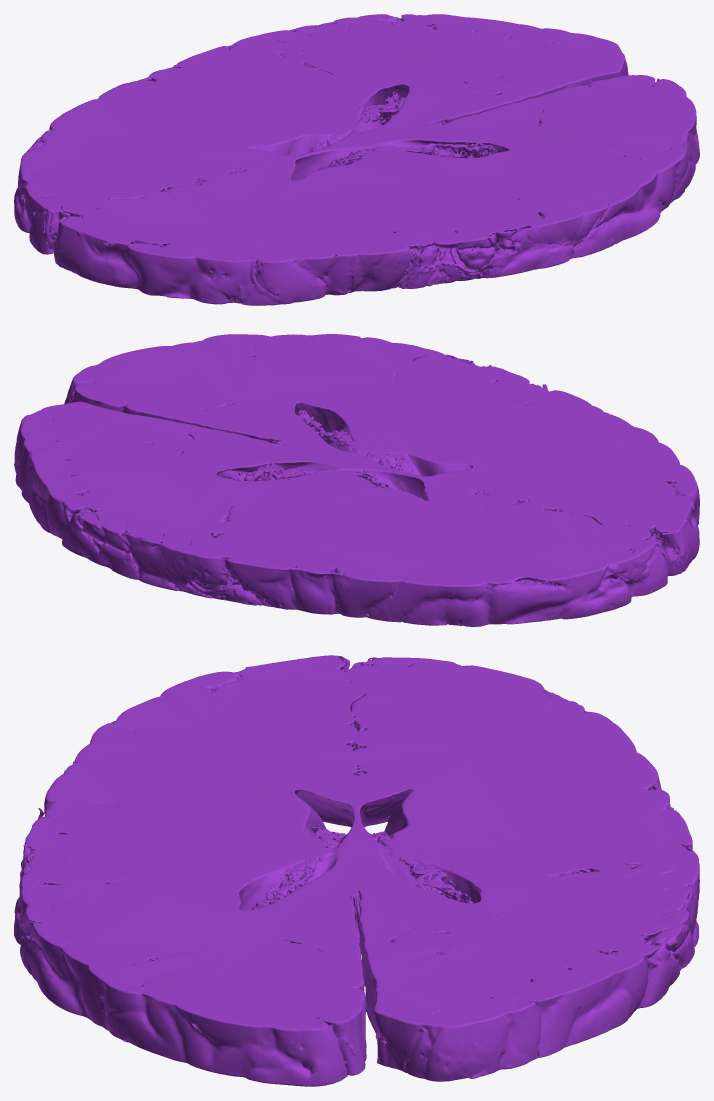
3 views of the same model, one above another, from view 1: azimuth 30°, elevation 25°; view 2: azimuth 150°, elevation 25°; view 3: azimuth 270°, elevation 25° (orthographic). The views are drawn at different scales.
Visible parts, largest first — view 1: split_parent_0; view 2: split_parent_0; view 3: split_parent_0.
Boxes of the visible parts, <box> form: split_parent_0: <box>14,14,699,305</box>; split_parent_0: <box>14,334,699,626</box>; split_parent_0: <box>14,655,699,1086</box>.
Size of the model in its own units: 1 by 0.0634 by 0.7544.
